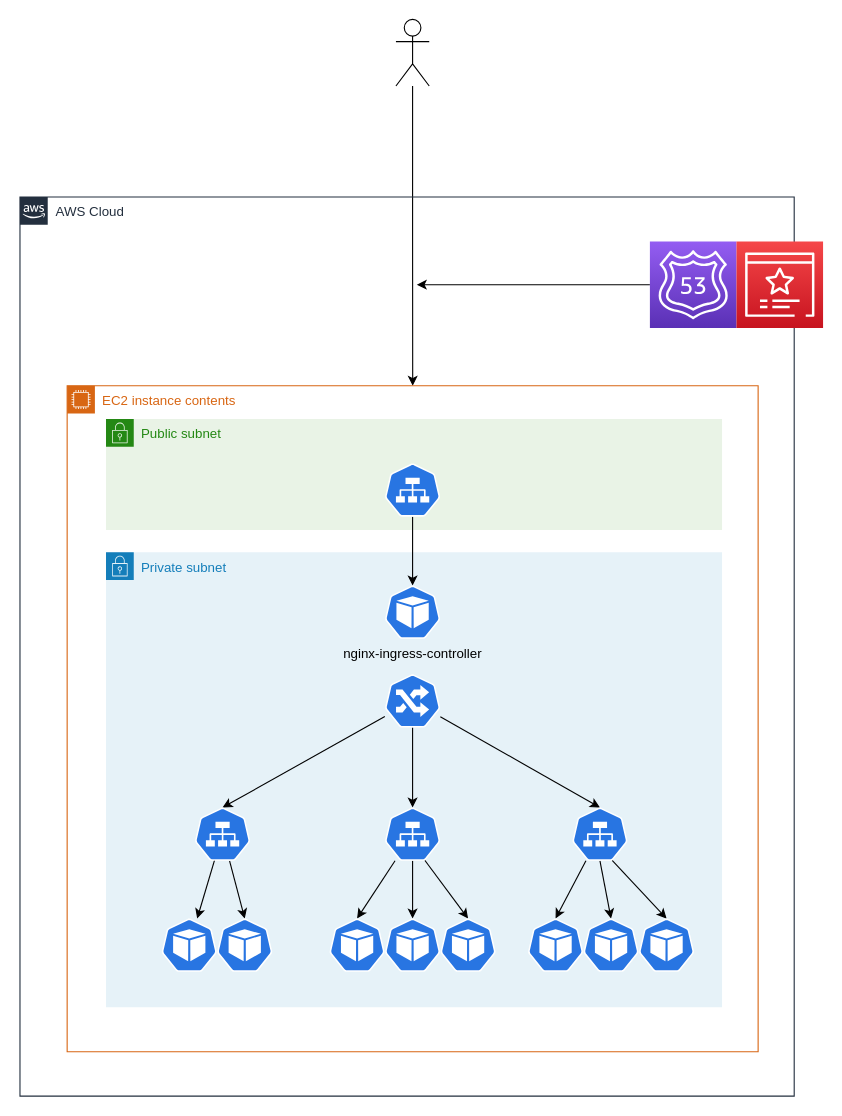
Some shapes in this 842 by 1116 pixel diagram are drawn without their labels. Here are the shapes that lost their labels. From the top down, the centre of each, then its label:
At (412,52): "Actor".
At (412,700): "Ingress".
